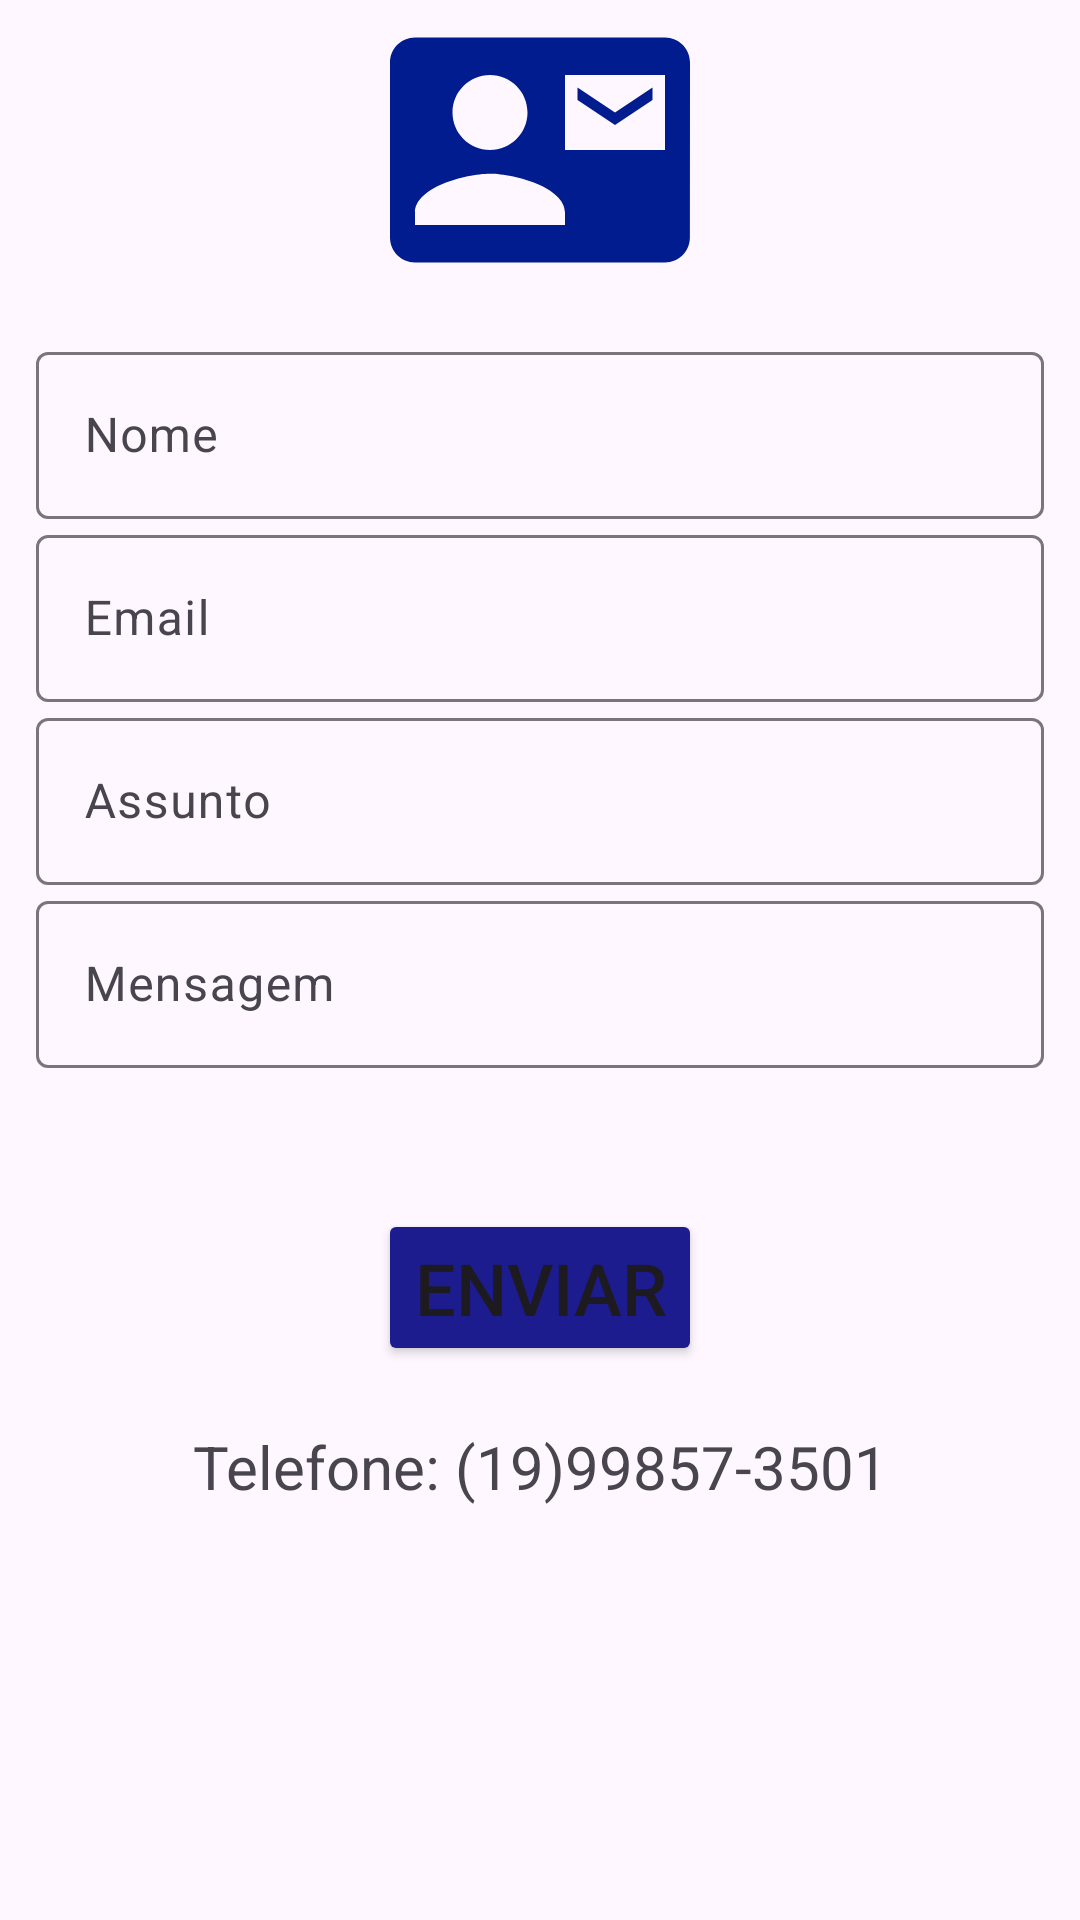

Named icons in this screenshot (1080×1920) and their centers, (x=x, y=y):
fale conosco: (x=540, y=150)
